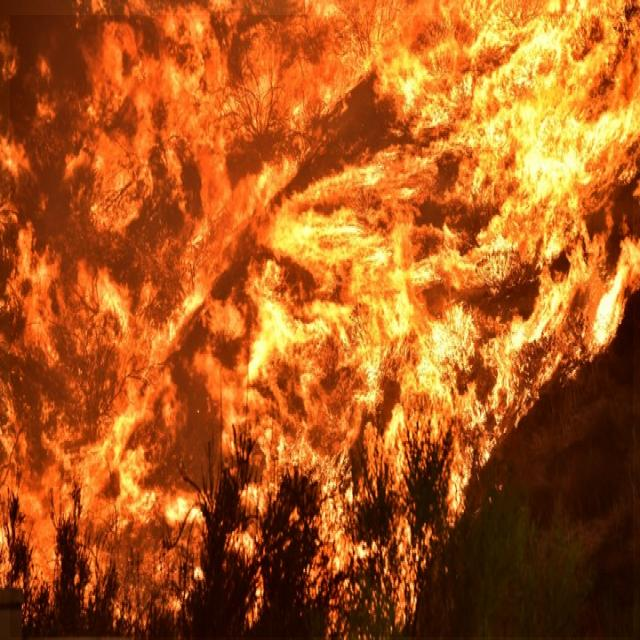Fire: (10, 15, 633, 637)
